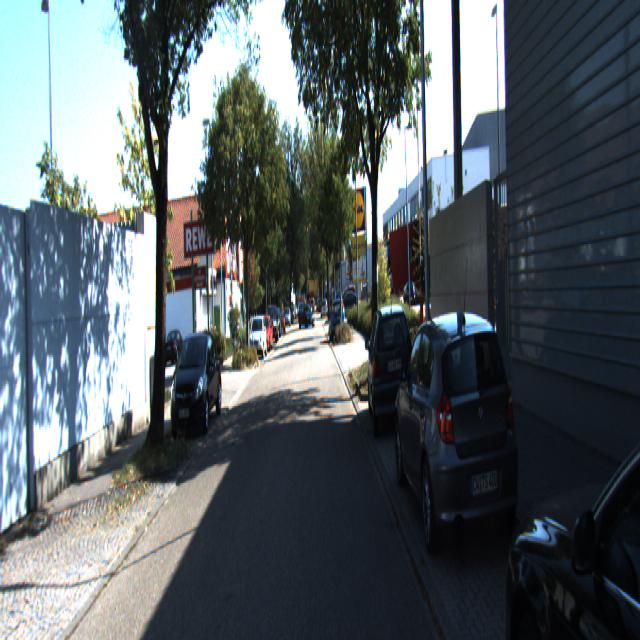Car: (478, 287, 640, 638), (392, 300, 524, 556), (367, 301, 417, 434), (170, 327, 222, 439), (250, 317, 268, 362), (330, 300, 346, 342), (257, 314, 274, 352)
